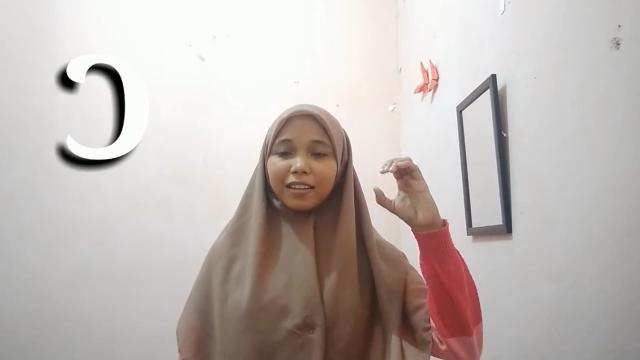C: (374, 154, 441, 226)
